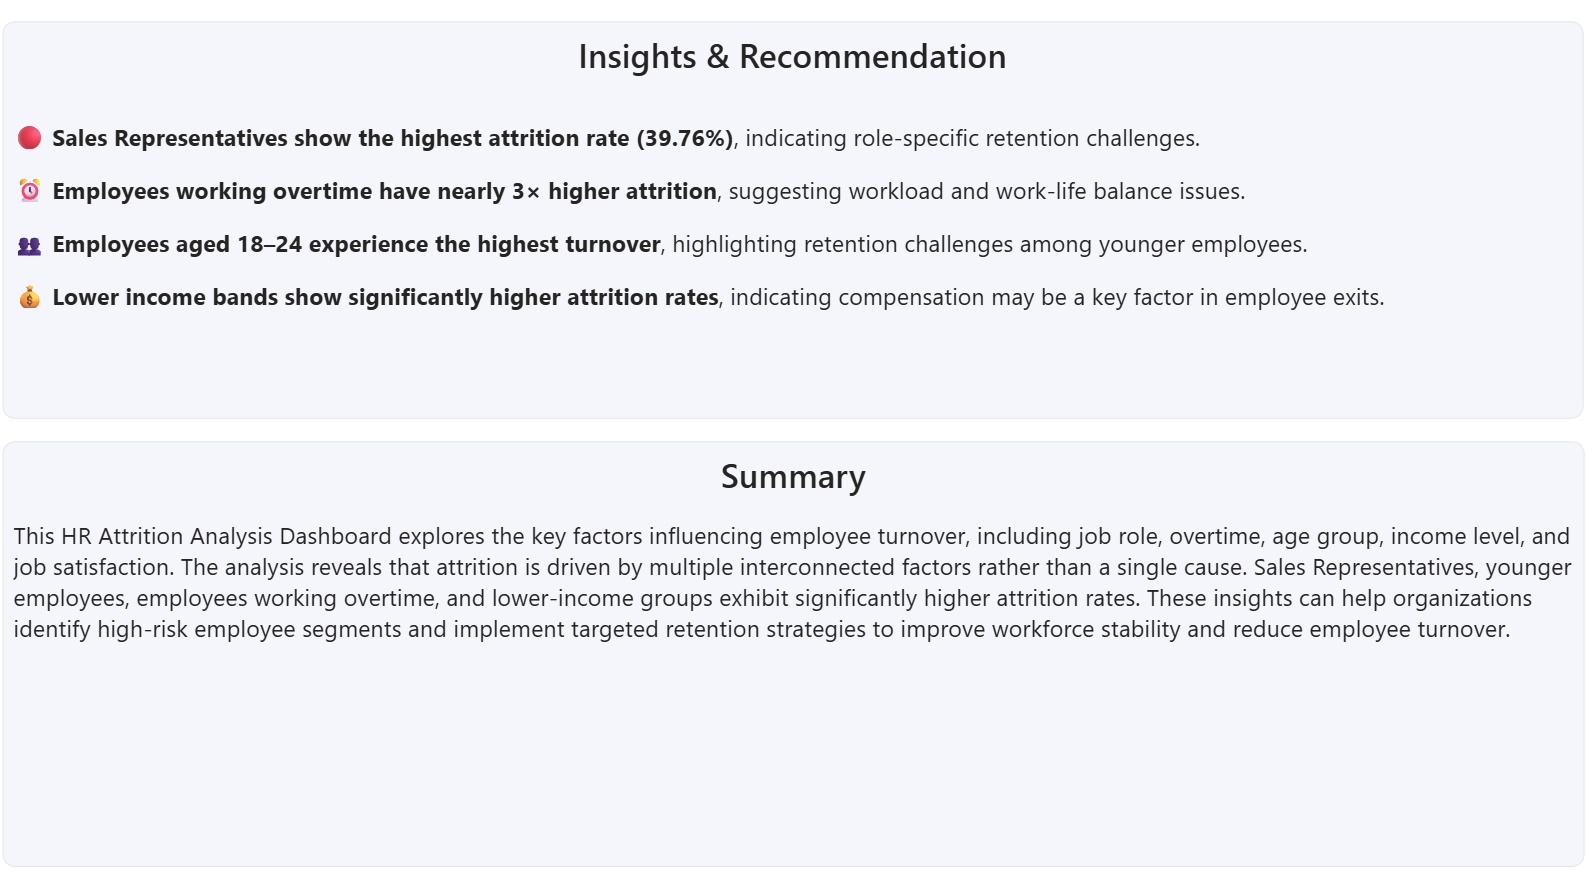

This screenshot's page, from the dashboard's own definition file:
{"tool":"powerbi","page":{"name":"Insights& Recommendation","canvas":[1280,720],"ordinal":1},"visuals":[{"type":"textbox","box":[9.6,24.7,1259.7,317],"z":0},{"type":"textbox","box":[9.6,359.5,1261.1,338.9],"z":1}]}

Visuals, with their boxes in screenshot pixels (x1, y1, x2, y2), scaled from the page's 1280x720 canvas onto the 1586x884 screenshot:
textbox: box=[12, 30, 1573, 420]
textbox: box=[12, 441, 1574, 857]
